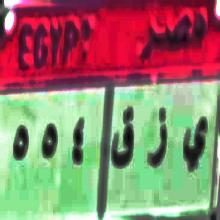4: (70, 110, 87, 174)
5: (40, 118, 59, 176), (11, 119, 30, 169)
qaaf: (112, 105, 134, 176)
yaa: (180, 110, 209, 182)
zay: (145, 102, 168, 172)
